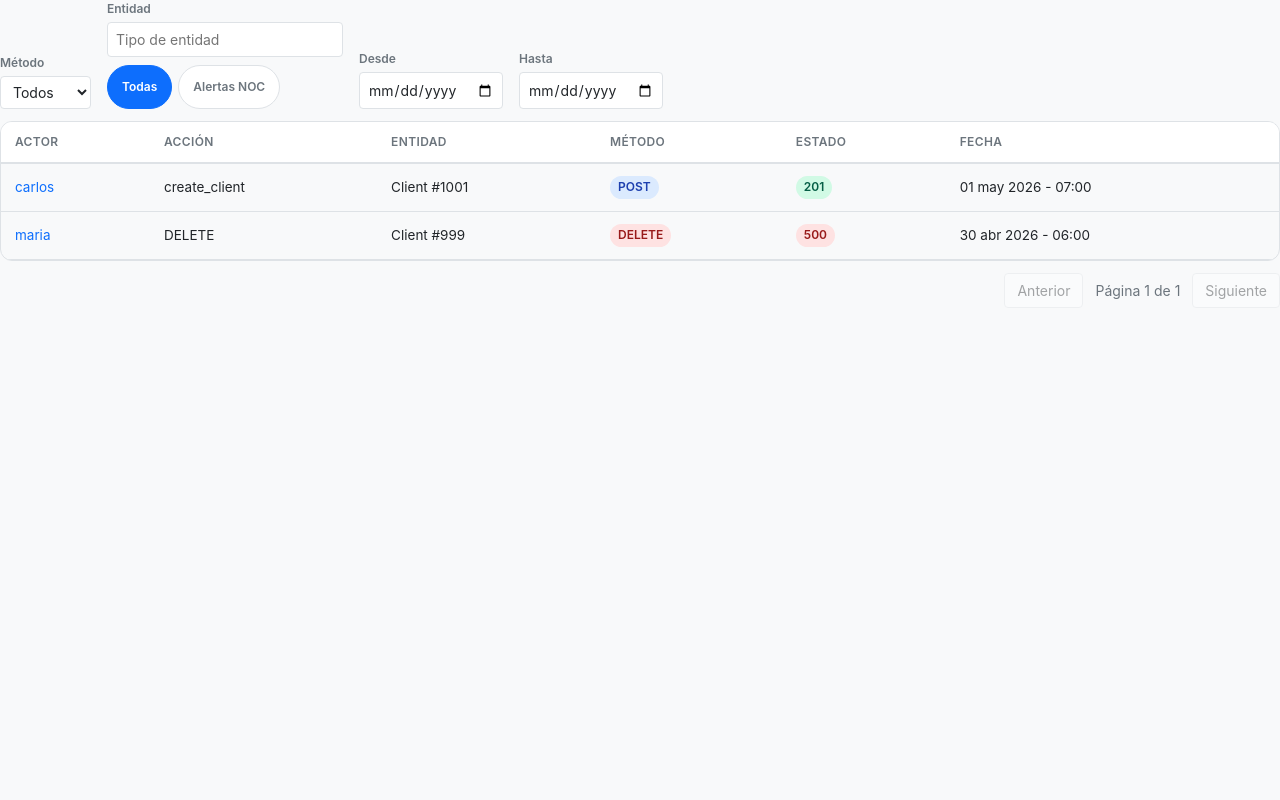
it: ActivityBody › clicking a row opens the detail drawer showing before/after
The width and height of the screenshot is (1280, 800).
What coordinates should you click on to do the following:
click the button "carlos"
I would click on:
 (35, 187)
Its box is 15,177 -> 54,198.
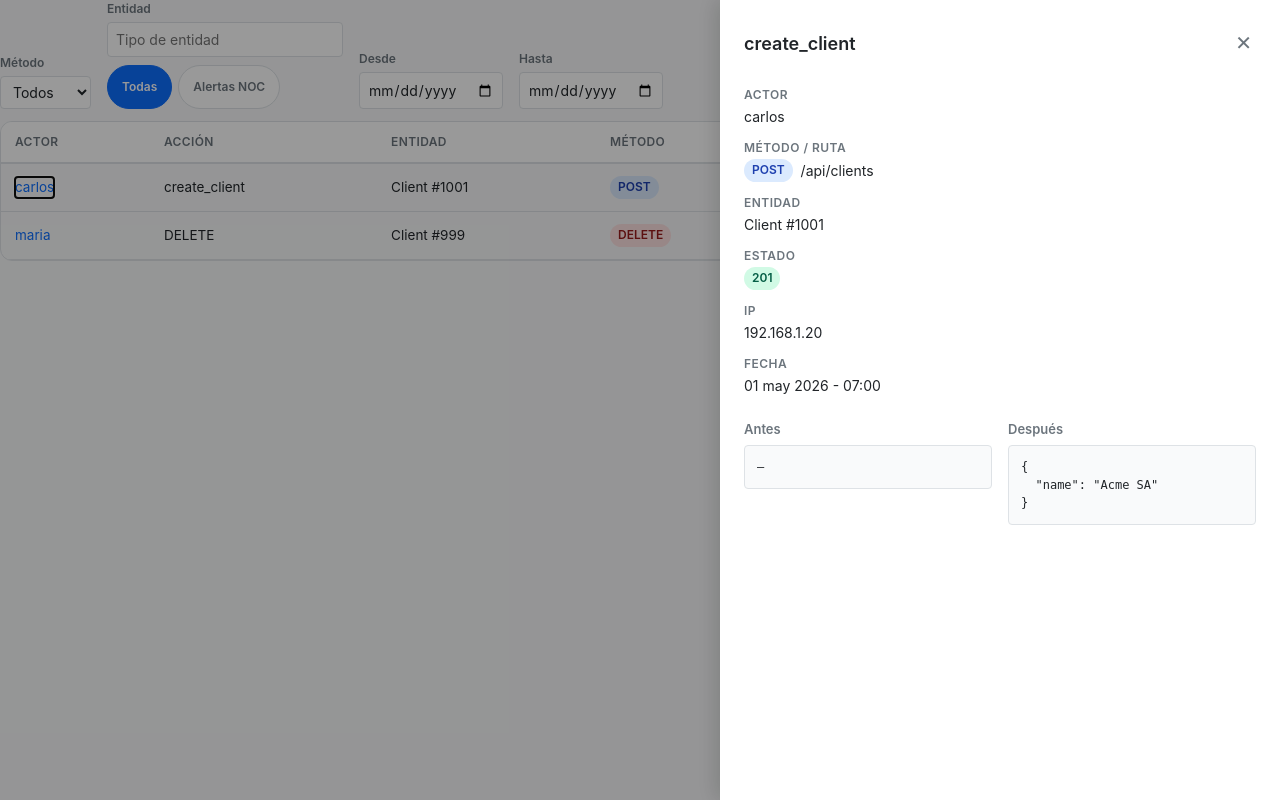
Expected: the dialog is shown, 720,0 -> 1279,799
Expected: the heading "Antes" is shown, 744,421 -> 781,437
Expected: the heading "Después" is shown, 1008,421 -> 1063,437
